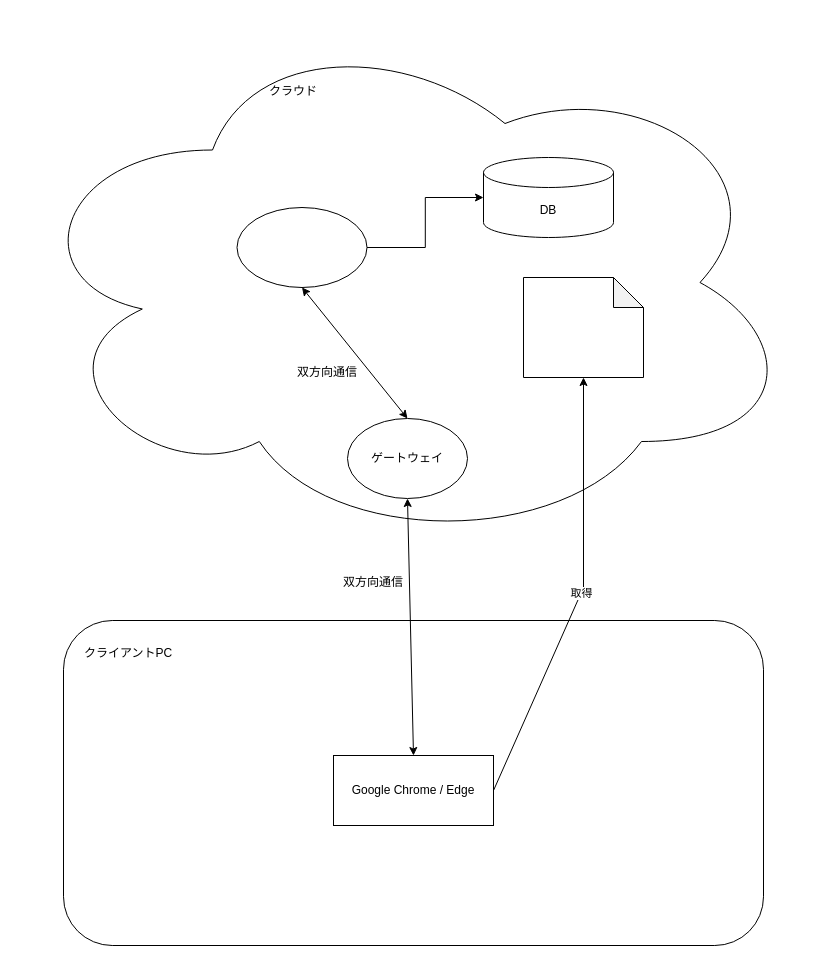
The diagram is 815 pixels wide and 963 high, and some of its shapes have lost their labels. The centre of each missing label's shape, as x and y in pixels:
クライアントHTML/CSS/JS: (x=583, y=327)
処理: (x=301, y=247)
